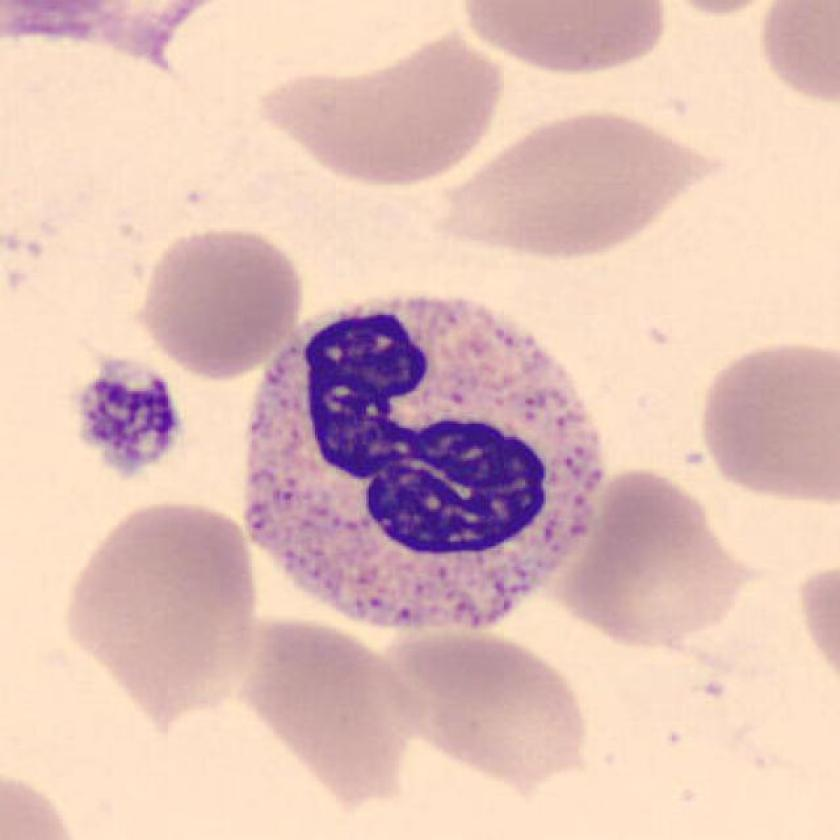neutrophil: (248, 296, 611, 627)
